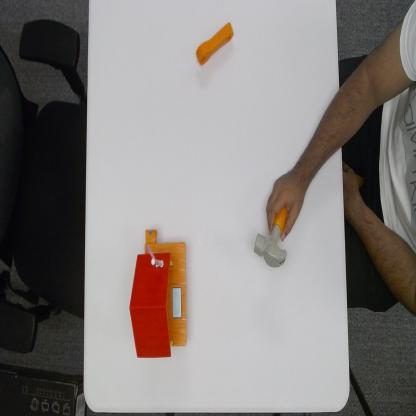Arm: (288, 58, 384, 183)
Hammer: (254, 208, 292, 268)
Hand: (266, 168, 306, 229)
House: (129, 226, 188, 360)
Screwdriver: (194, 22, 235, 67)
